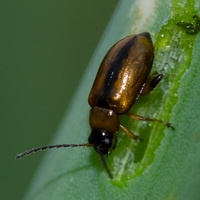insect: (16, 32, 173, 178)
